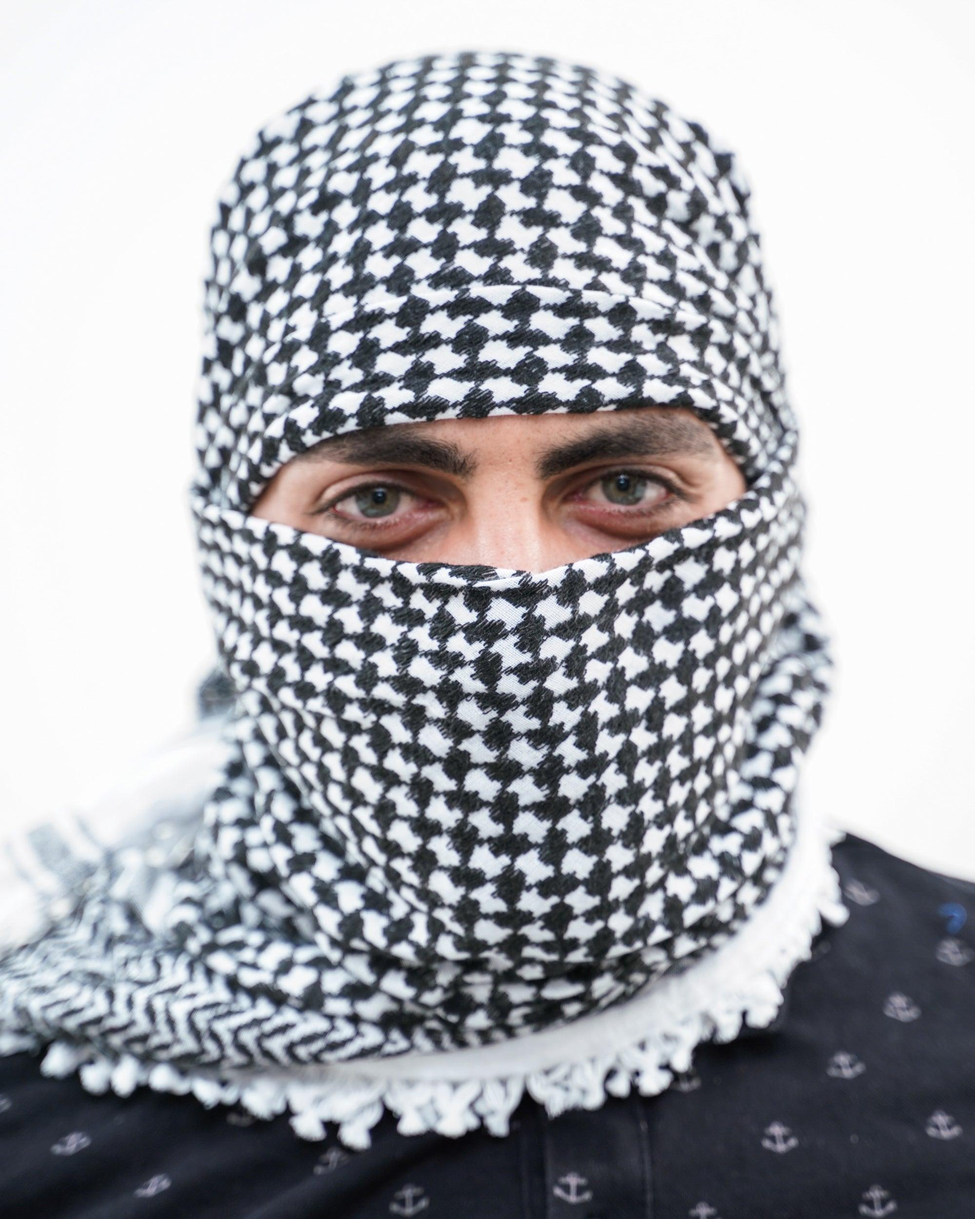scarf-kerchief: (0, 48, 863, 1073)
